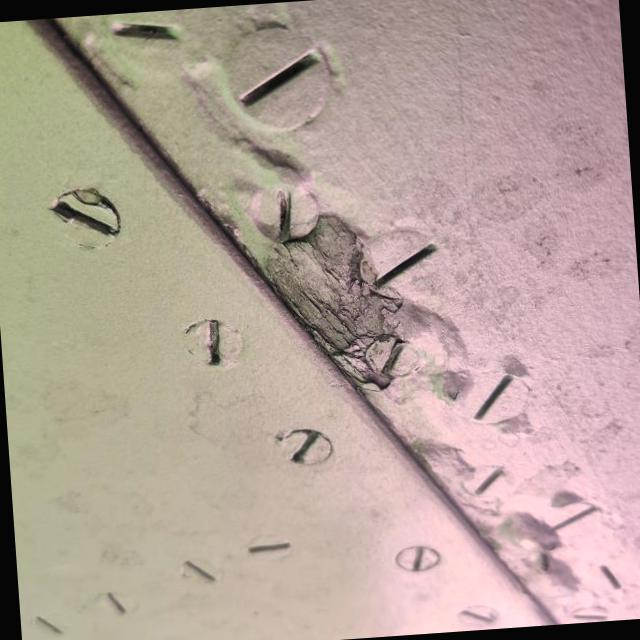paint-off: (227, 178, 433, 422)
